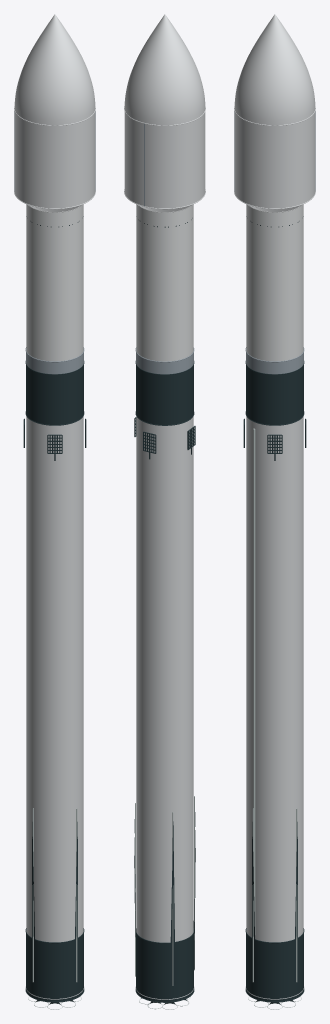
File: falcon-9.glb
3 views of the same model, side by side, from view 1: azimuth 90°, elevation 25°; view 2: azimuth 150°, elevation 25°; view 3: azimuth 270°, elevation 25° (orthographic).
Visible parts, largest first — view 1: thin-exterior-shell (×6), ogive-fairing, stowed-landing-leg (×2), legs, stage-1, fairing; view 2: thin-exterior-shell (×6), ogive-fairing, stowed-landing-leg, legs, stage-1, fairing; view 3: thin-exterior-shell (×6), ogive-fairing, stage-1, stowed-landing-leg (×2), legs, fairing.
Part boxes in pixels (x1,y1,x2,y2): thin-exterior-shell (×6): (14,112,95,1001); ogive-fairing: (14,14,95,125); stowed-landing-leg (×2): (32,822,77,982); legs: (32,808,77,982); stage-1: (25,361,84,1002); fairing: (14,106,95,209); thin-exterior-shell (×6): (124,112,205,1001); ogive-fairing: (124,14,205,125); stowed-landing-leg: (170,821,175,985); legs: (135,796,194,985); stage-1: (135,361,194,1002); fairing: (124,106,205,209); thin-exterior-shell (×6): (234,112,315,1001); ogive-fairing: (234,14,315,125); stage-1: (245,361,304,1002); stowed-landing-leg (×2): (252,822,297,982); legs: (252,808,297,982); fairing: (234,106,315,209).
Size of the model in its own units: 0.6007 by 7.98 by 0.6007.
